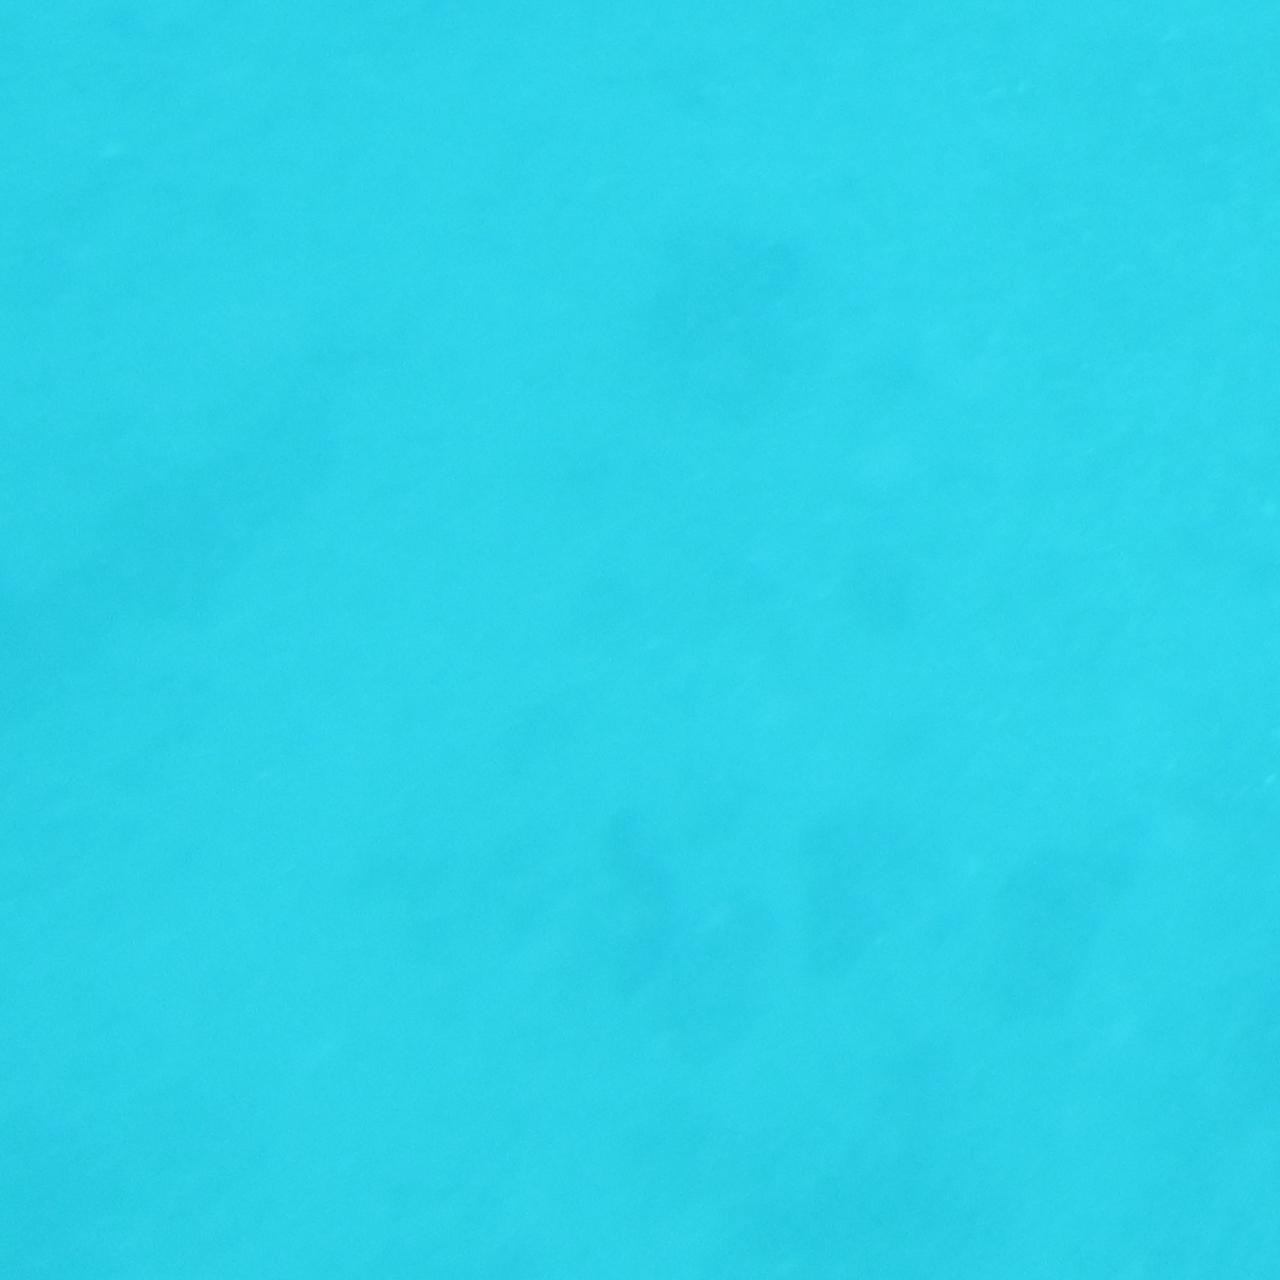Holothuria tubulosa: (578, 821, 696, 1015)
